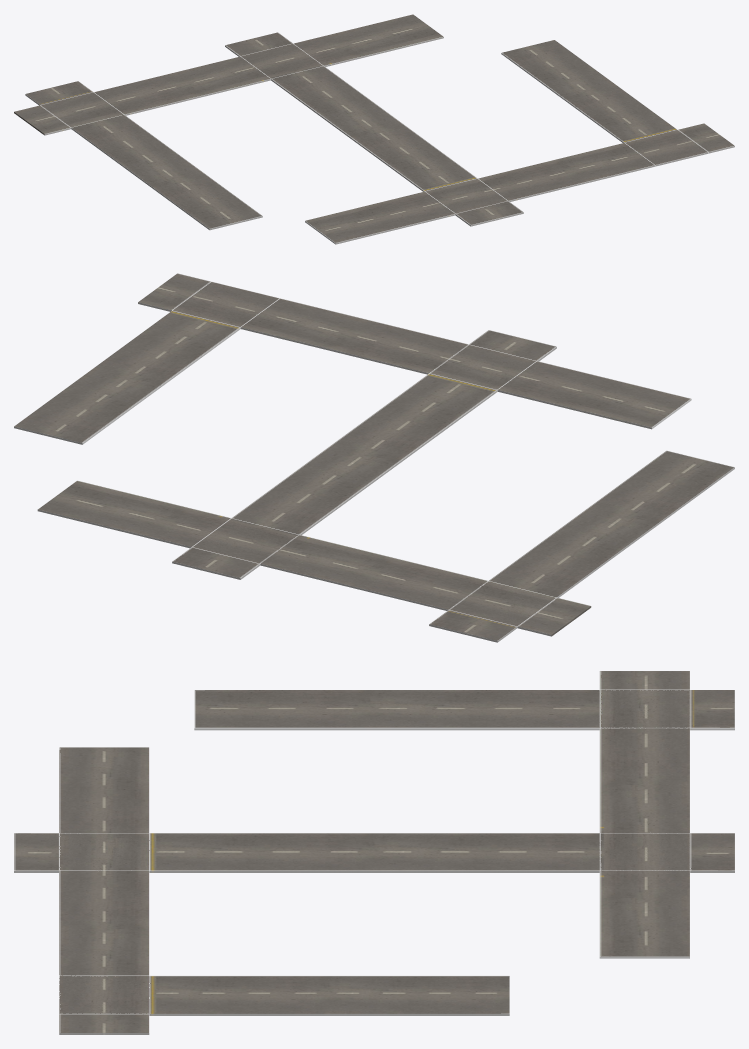
The model's file is Road.fbx.
3 renders of one model, top to bottom at view 1: azimuth 30°, elevation 25°; view 2: azimuth 150°, elevation 25°; view 3: azimuth 270°, elevation 25°, orthographic. The views are drawn at different scales.
Visible parts, largest first — view 1: Road4, Road3, Road6, Road5, Road7; view 2: Road4, Road3, Road6, Road5, Road7; view 3: Road6, Road4, Road3, Road5, Road7.
Part boxes in pixels (x1,y1,x2,y2): Road4: (14, 14, 443, 135); Road3: (305, 123, 734, 244); Road6: (225, 32, 523, 226); Road5: (25, 81, 262, 230); Road7: (501, 40, 708, 165); Road4: (37, 480, 591, 636); Road3: (138, 273, 691, 429); Road6: (172, 330, 556, 579); Road5: (429, 450, 734, 642); Road7: (14, 282, 279, 444); Road6: (14, 833, 734, 872); Road4: (599, 671, 689, 958); Road3: (59, 747, 149, 1034); Road5: (194, 690, 734, 730); Road7: (59, 975, 509, 1015).
Size of the model in its own units: 1900 by 5 by 1600.
1 material, 1 textured.
